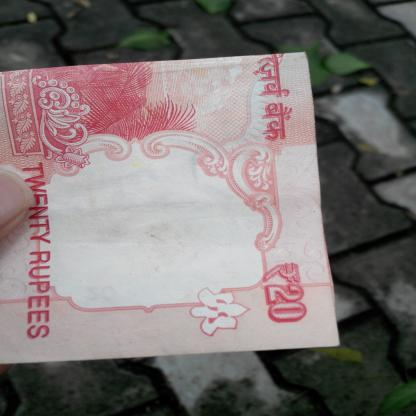Old20Back: (0, 63, 317, 350)
